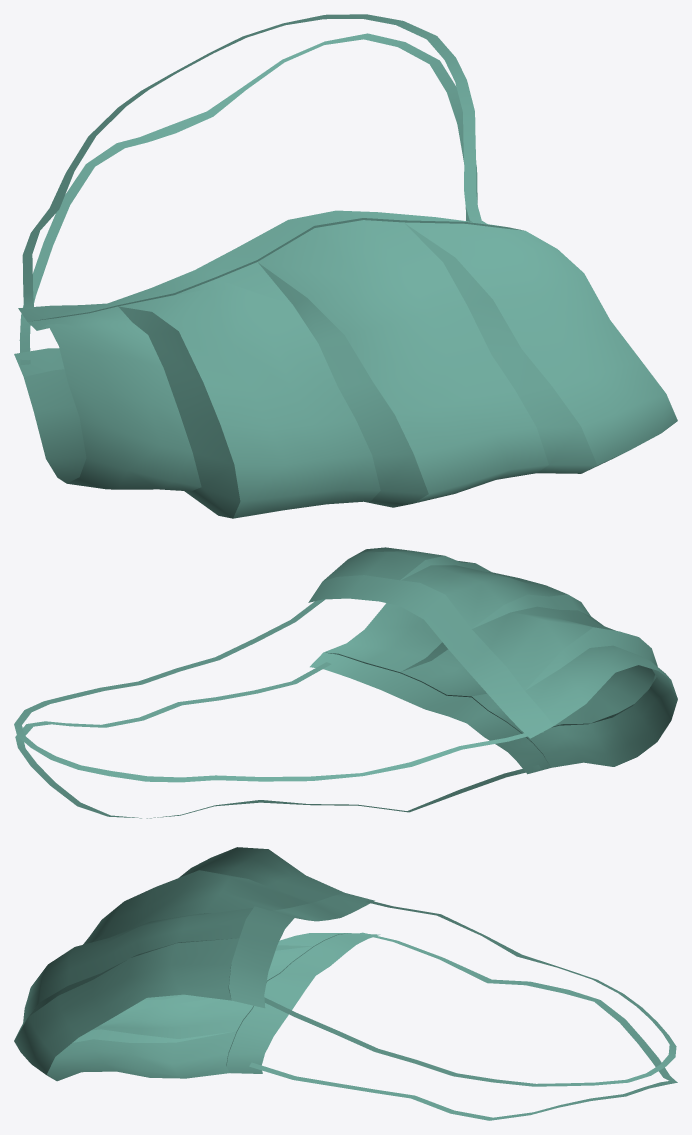
Rendered from seguranca-obj_mascarapff2.fbx.
3 views of the same model, one above another, from view 1: azimuth 30°, elevation 25°; view 2: azimuth 150°, elevation 25°; view 3: azimuth 270°, elevation 25° (orthographic). The views are drawn at different scales.
Parts seen in each view (by area): view 1: Mascara_PFF2; view 2: Mascara_PFF2; view 3: Mascara_PFF2.
Part boxes in pixels (x1,y1,x2,y2): Mascara_PFF2: (14, 14, 677, 518); Mascara_PFF2: (14, 547, 677, 818); Mascara_PFF2: (14, 847, 677, 1120).
Size of the model in its own units: 3.55 by 0.9472 by 4.51.
